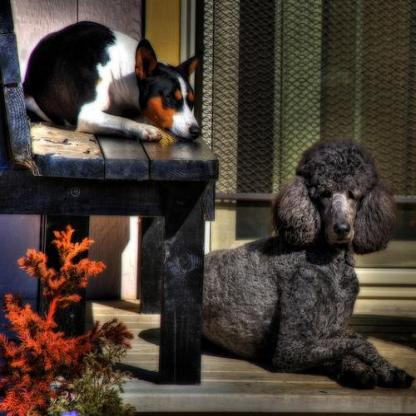basenji: (203, 137, 414, 392), (21, 21, 202, 146)
